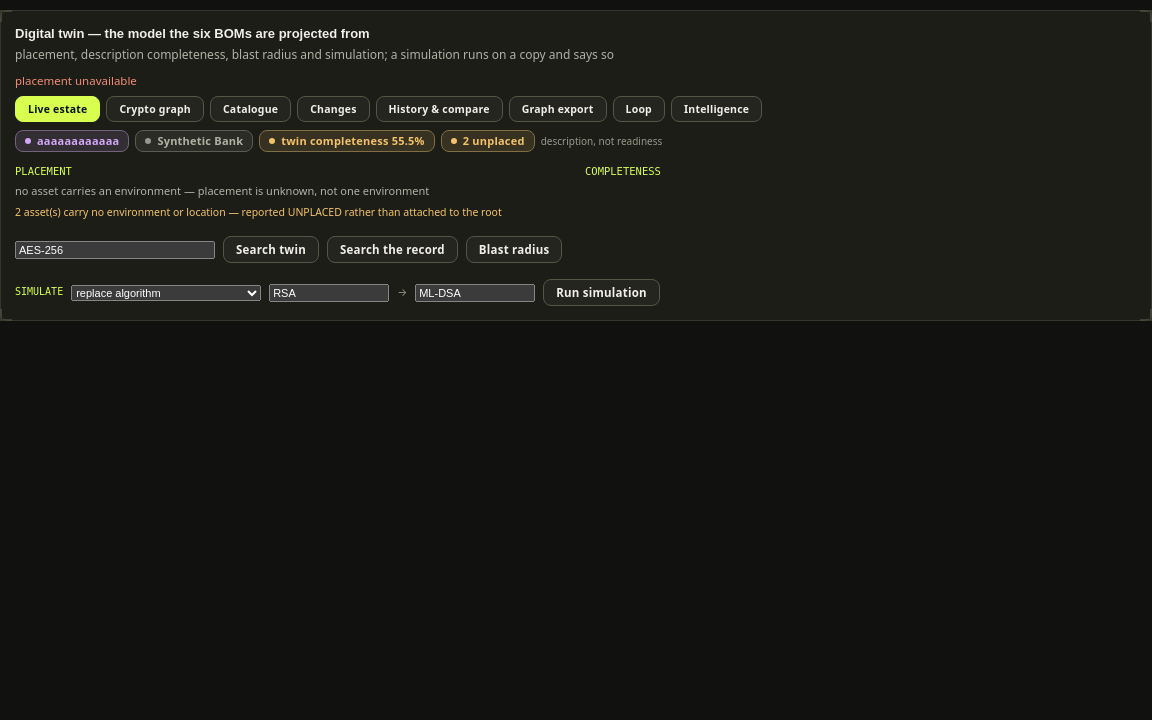
Test case: answers why the twin believes an edge, from the edge itself
Click the button "Search twin" at (271, 250), box [223,236,319,263]
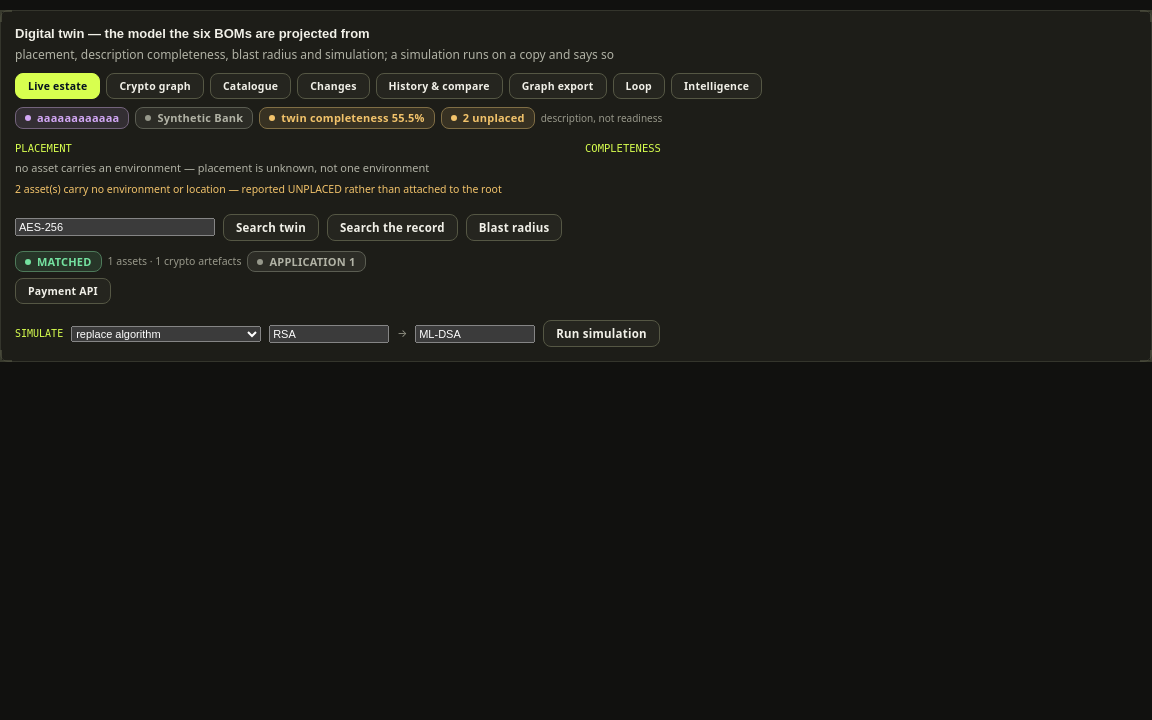
Result: the button "Payment API" is shown
Click the button "Payment API" at (63, 292), box [15,278,111,304]
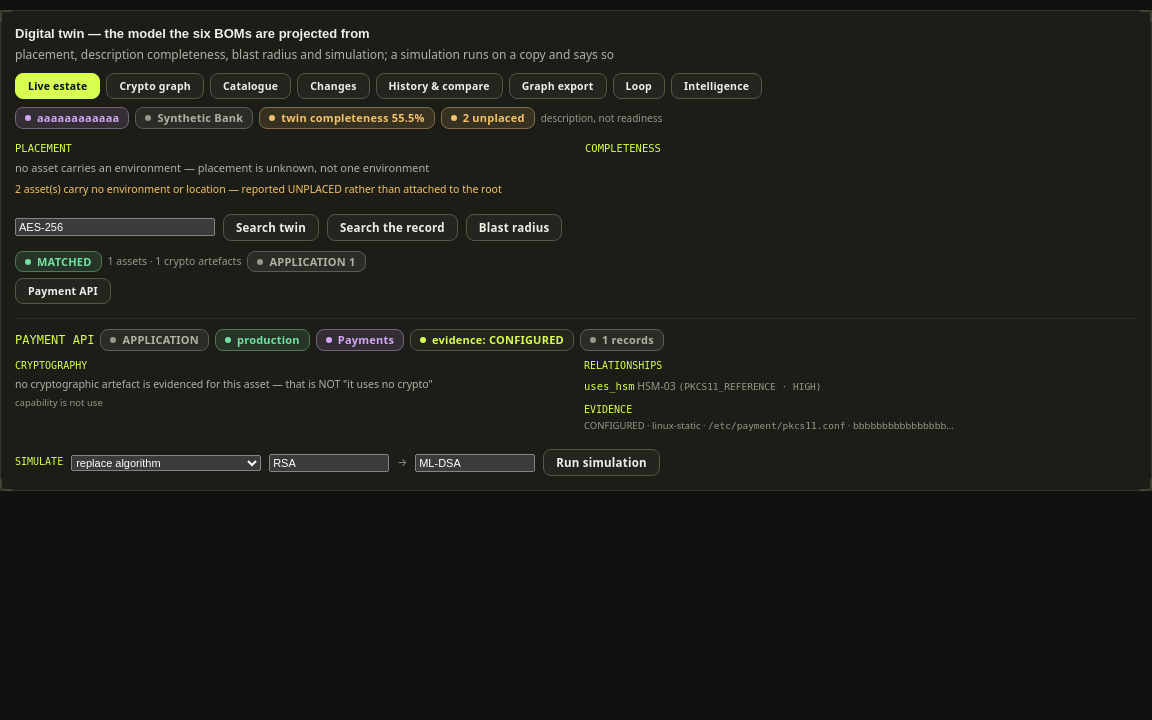
Result: the text "RELATIONSHIPS" is shown at [584,360,662,371]
Click the text "uses_hsm" at (609, 386), box [584,380,635,392]
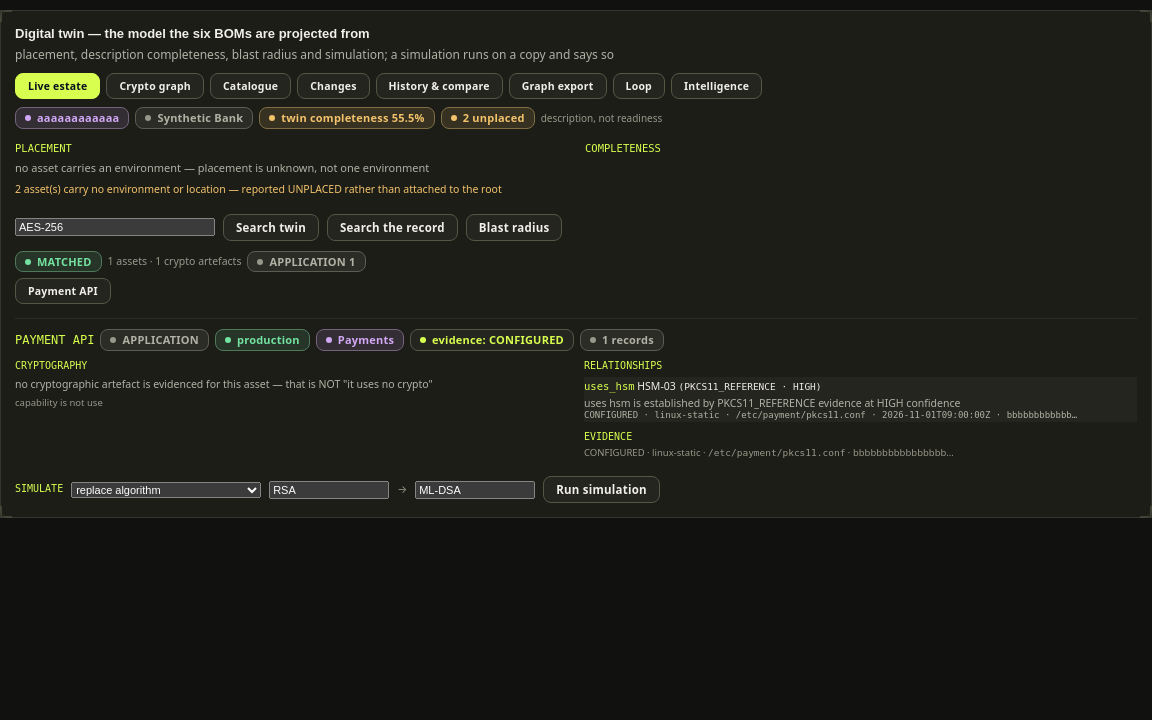
Result: the text "established by PKCS11_REFERENCE evidence at HIGH confidence" is shown at [584,396,960,410]
Result: the text "bbbbbbbbbbbb" is shown at [1007,410,1072,420]
